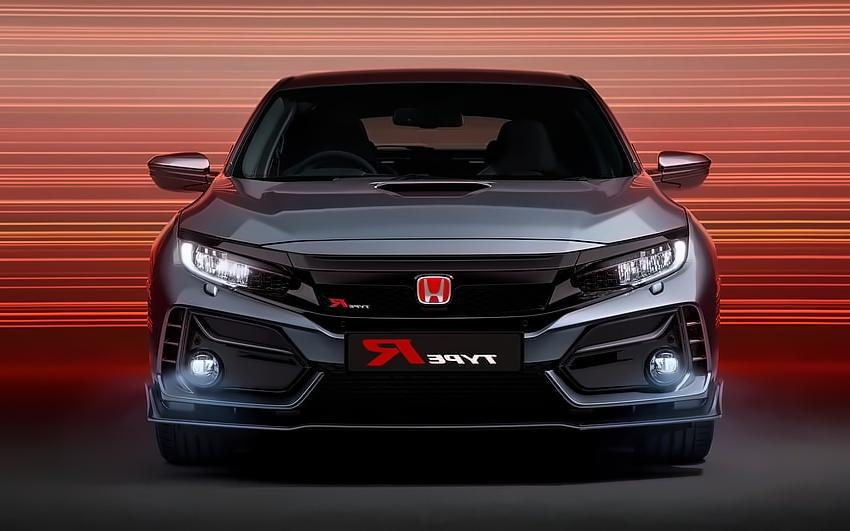Car hood: (175, 174, 700, 261)
Front bumper: (139, 264, 737, 434)
Headlight - -L-: (555, 229, 697, 308)
Headlight - -R-: (175, 224, 315, 308)
Side mirror - -L-: (645, 135, 718, 200)
Side mirror - -R-: (139, 140, 221, 197)
